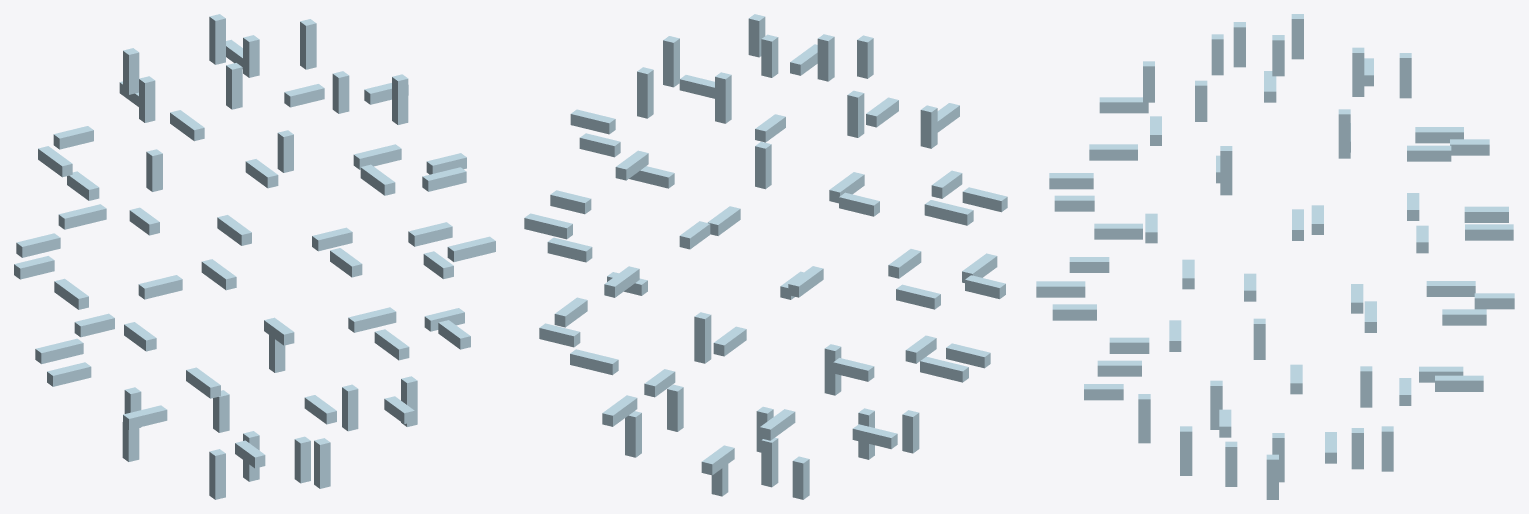
File: render.glb
3 renders of one model, left to right at view 1: azimuth 30°, elevation 25°; view 2: azimuth 150°, elevation 25°; view 3: azimuth 270°, elevation 25°, orthographic.
Parts seen in each view (by area): view 1: Shard53, Shard56, Shard02, Shard05, Shard17, Shard38, Shard08, Shard29, Shard47, Shard26, Shard01, Shard04 (+43 smaller); view 2: Shard50, Shard59, Shard17, Shard02, Shard38, Shard47, Shard05, Shard26, Shard08, Shard01, Shard04, Shard34 (+43 smaller); view 3: Shard32, Shard11, Shard23, Shard35, Shard44, Shard14, Shard41, Shard20, Shard19, Shard31, Shard40, Shard10 (+27 smaller).
Boxes of the visible parts, x1=… form: Shard53: x1=314, y1=438, x2=330, y2=488; Shard56: x1=209, y1=449, x2=225, y2=499; Shard02: x1=209, y1=14, x2=225, y2=64; Shard05: x1=300, y1=19, x2=316, y2=69; Shard17: x1=58, y1=204, x2=106, y2=229; Shard38: x1=35, y1=338, x2=83, y2=364; Shard08: x1=392, y1=74, x2=408, y2=124; Shard29: x1=447, y1=236, x2=495, y2=261; Shard47: x1=348, y1=307, x2=396, y2=332; Shard26: x1=353, y1=144, x2=401, y2=169; Shard01: x1=226, y1=63, x2=242, y2=109; Shard04: x1=139, y1=76, x2=155, y2=122; Shard50: x1=694, y1=312, x2=711, y2=363; Shard59: x1=761, y1=437, x2=778, y2=487; Shard17: x1=924, y1=200, x2=973, y2=225; Shard02: x1=715, y1=72, x2=731, y2=123; Shard38: x1=920, y1=356, x2=968, y2=382; Shard47: x1=570, y1=349, x2=618, y2=375; Shard05: x1=637, y1=67, x2=653, y2=118; Shard26: x1=524, y1=213, x2=572, y2=239; Shard08: x1=663, y1=36, x2=679, y2=87; Shard01: x1=817, y1=34, x2=834, y2=81; Shard04: x1=847, y1=90, x2=864, y2=137; Shard34: x1=547, y1=237, x2=592, y2=262; Shard32: x1=1036, y1=281, x2=1085, y2=297; Shard11: x1=1089, y1=144, x2=1137, y2=160; Shard23: x1=1465, y1=224, x2=1513, y2=240; Shard35: x1=1094, y1=223, x2=1142, y2=239; Shard44: x1=1435, y1=375, x2=1483, y2=391; Shard14: x1=1099, y1=97, x2=1148, y2=113; Shard41: x1=1426, y1=281, x2=1475, y2=296; Shard20: x1=1415, y1=127, x2=1463, y2=143; Shard19: x1=1049, y1=173, x2=1093, y2=189; Shard31: x1=1442, y1=309, x2=1486, y2=325; Shard40: x1=1052, y1=304, x2=1096, y2=320; Shard10: x1=1407, y1=145, x2=1451, y2=161.
Size of the model in its own units: 2.15 by 2.2 by 2.16.
